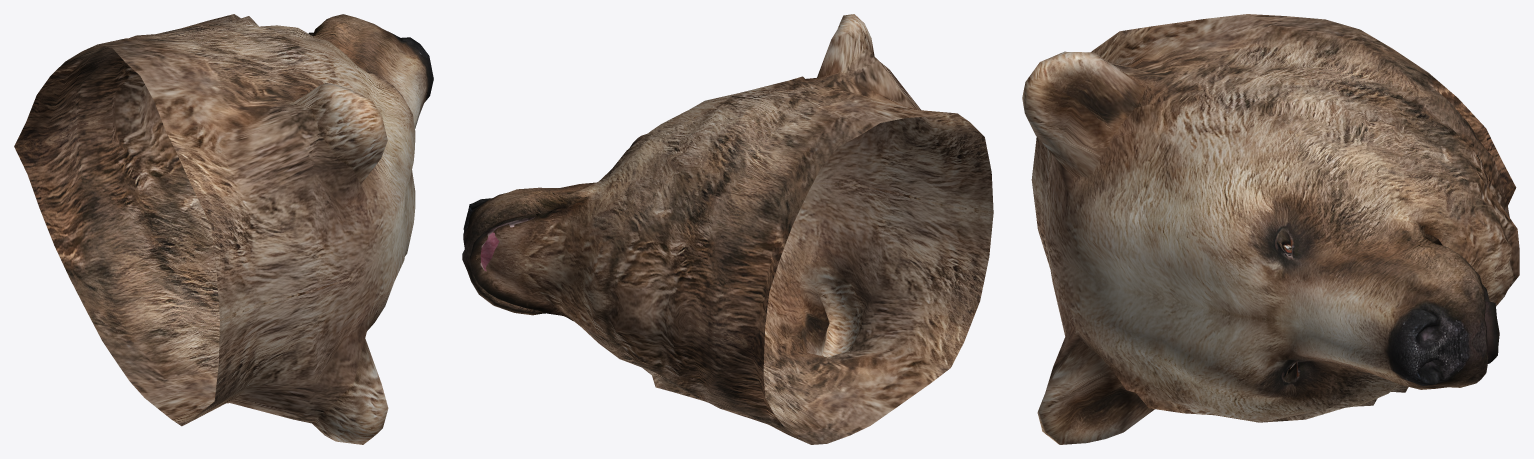
File: bear_v01_part_02.obj
3 views of the same model, side by side, from view 1: azimuth 30°, elevation 25°; view 2: azimuth 150°, elevation 25°; view 3: azimuth 270°, elevation 25° (orthographic). The views are drawn at different scales.
Visible parts, largest first — view 1: bear_v01_part_02; view 2: bear_v01_part_02; view 3: bear_v01_part_02.
Part boxes in pixels (left/top/right/bottom): bear_v01_part_02: left=14, top=14, right=433, bottom=444; bear_v01_part_02: left=462, top=14, right=993, bottom=444; bear_v01_part_02: left=1022, top=14, right=1519, bottom=444.
Size of the model in its own units: 0.4931 by 0.4306 by 0.5067.
1 material, 1 textured.
